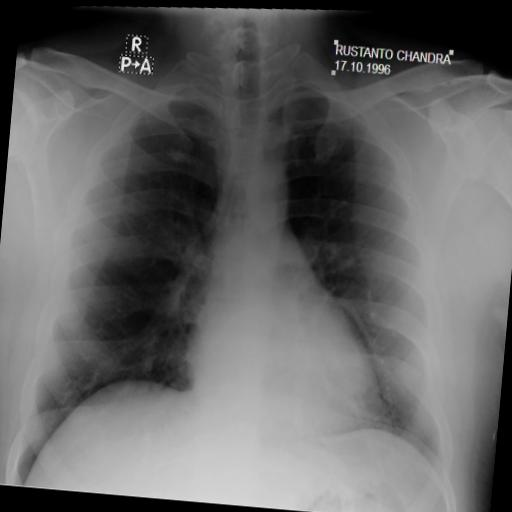kardiomegali: (3, 36, 496, 512)
